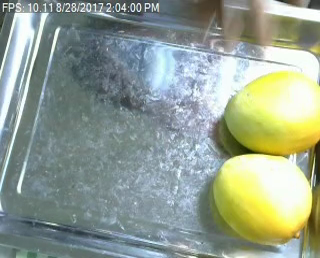Mango: (214, 155, 316, 245), (218, 68, 318, 153)
